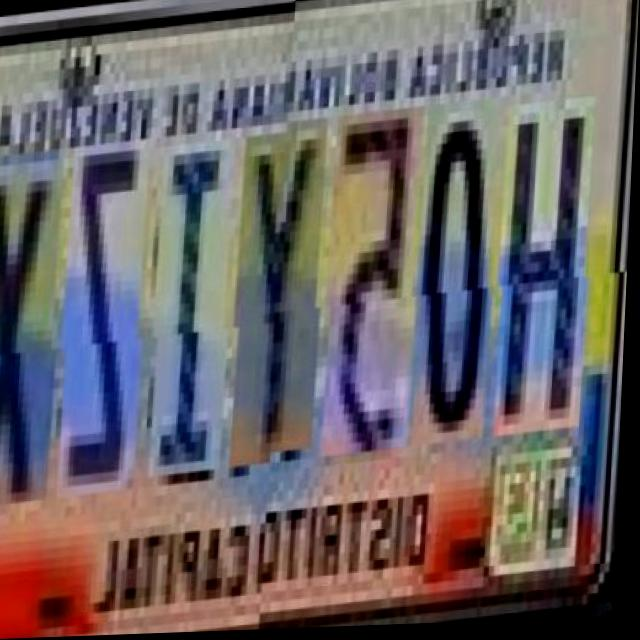5: (321, 117, 426, 465)
h: (494, 109, 598, 449)
i: (150, 133, 239, 471)
o: (412, 109, 501, 456)
x: (0, 138, 67, 497)
y: (231, 125, 330, 463)
z: (58, 130, 153, 489)
